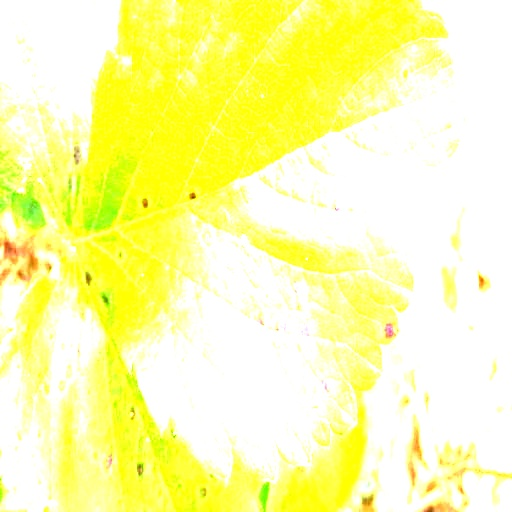Leaf Spot: (72, 0, 470, 483), (0, 262, 269, 511), (268, 394, 374, 511)
